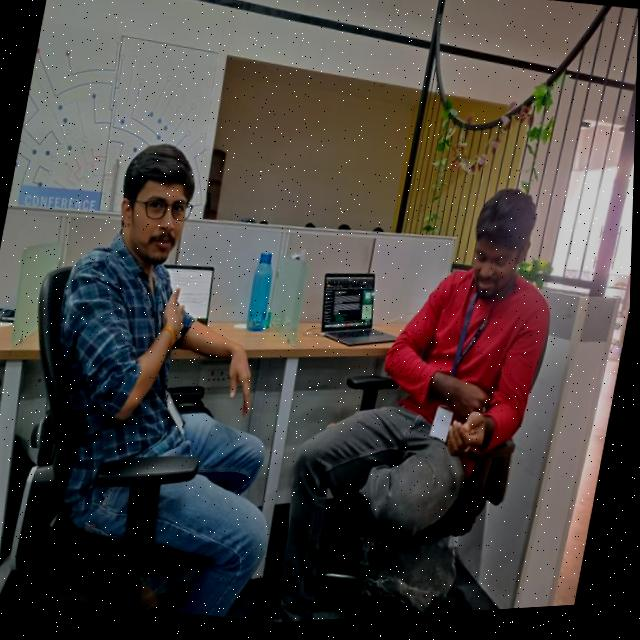id_card: (122, 286, 220, 447), (418, 289, 507, 465)
